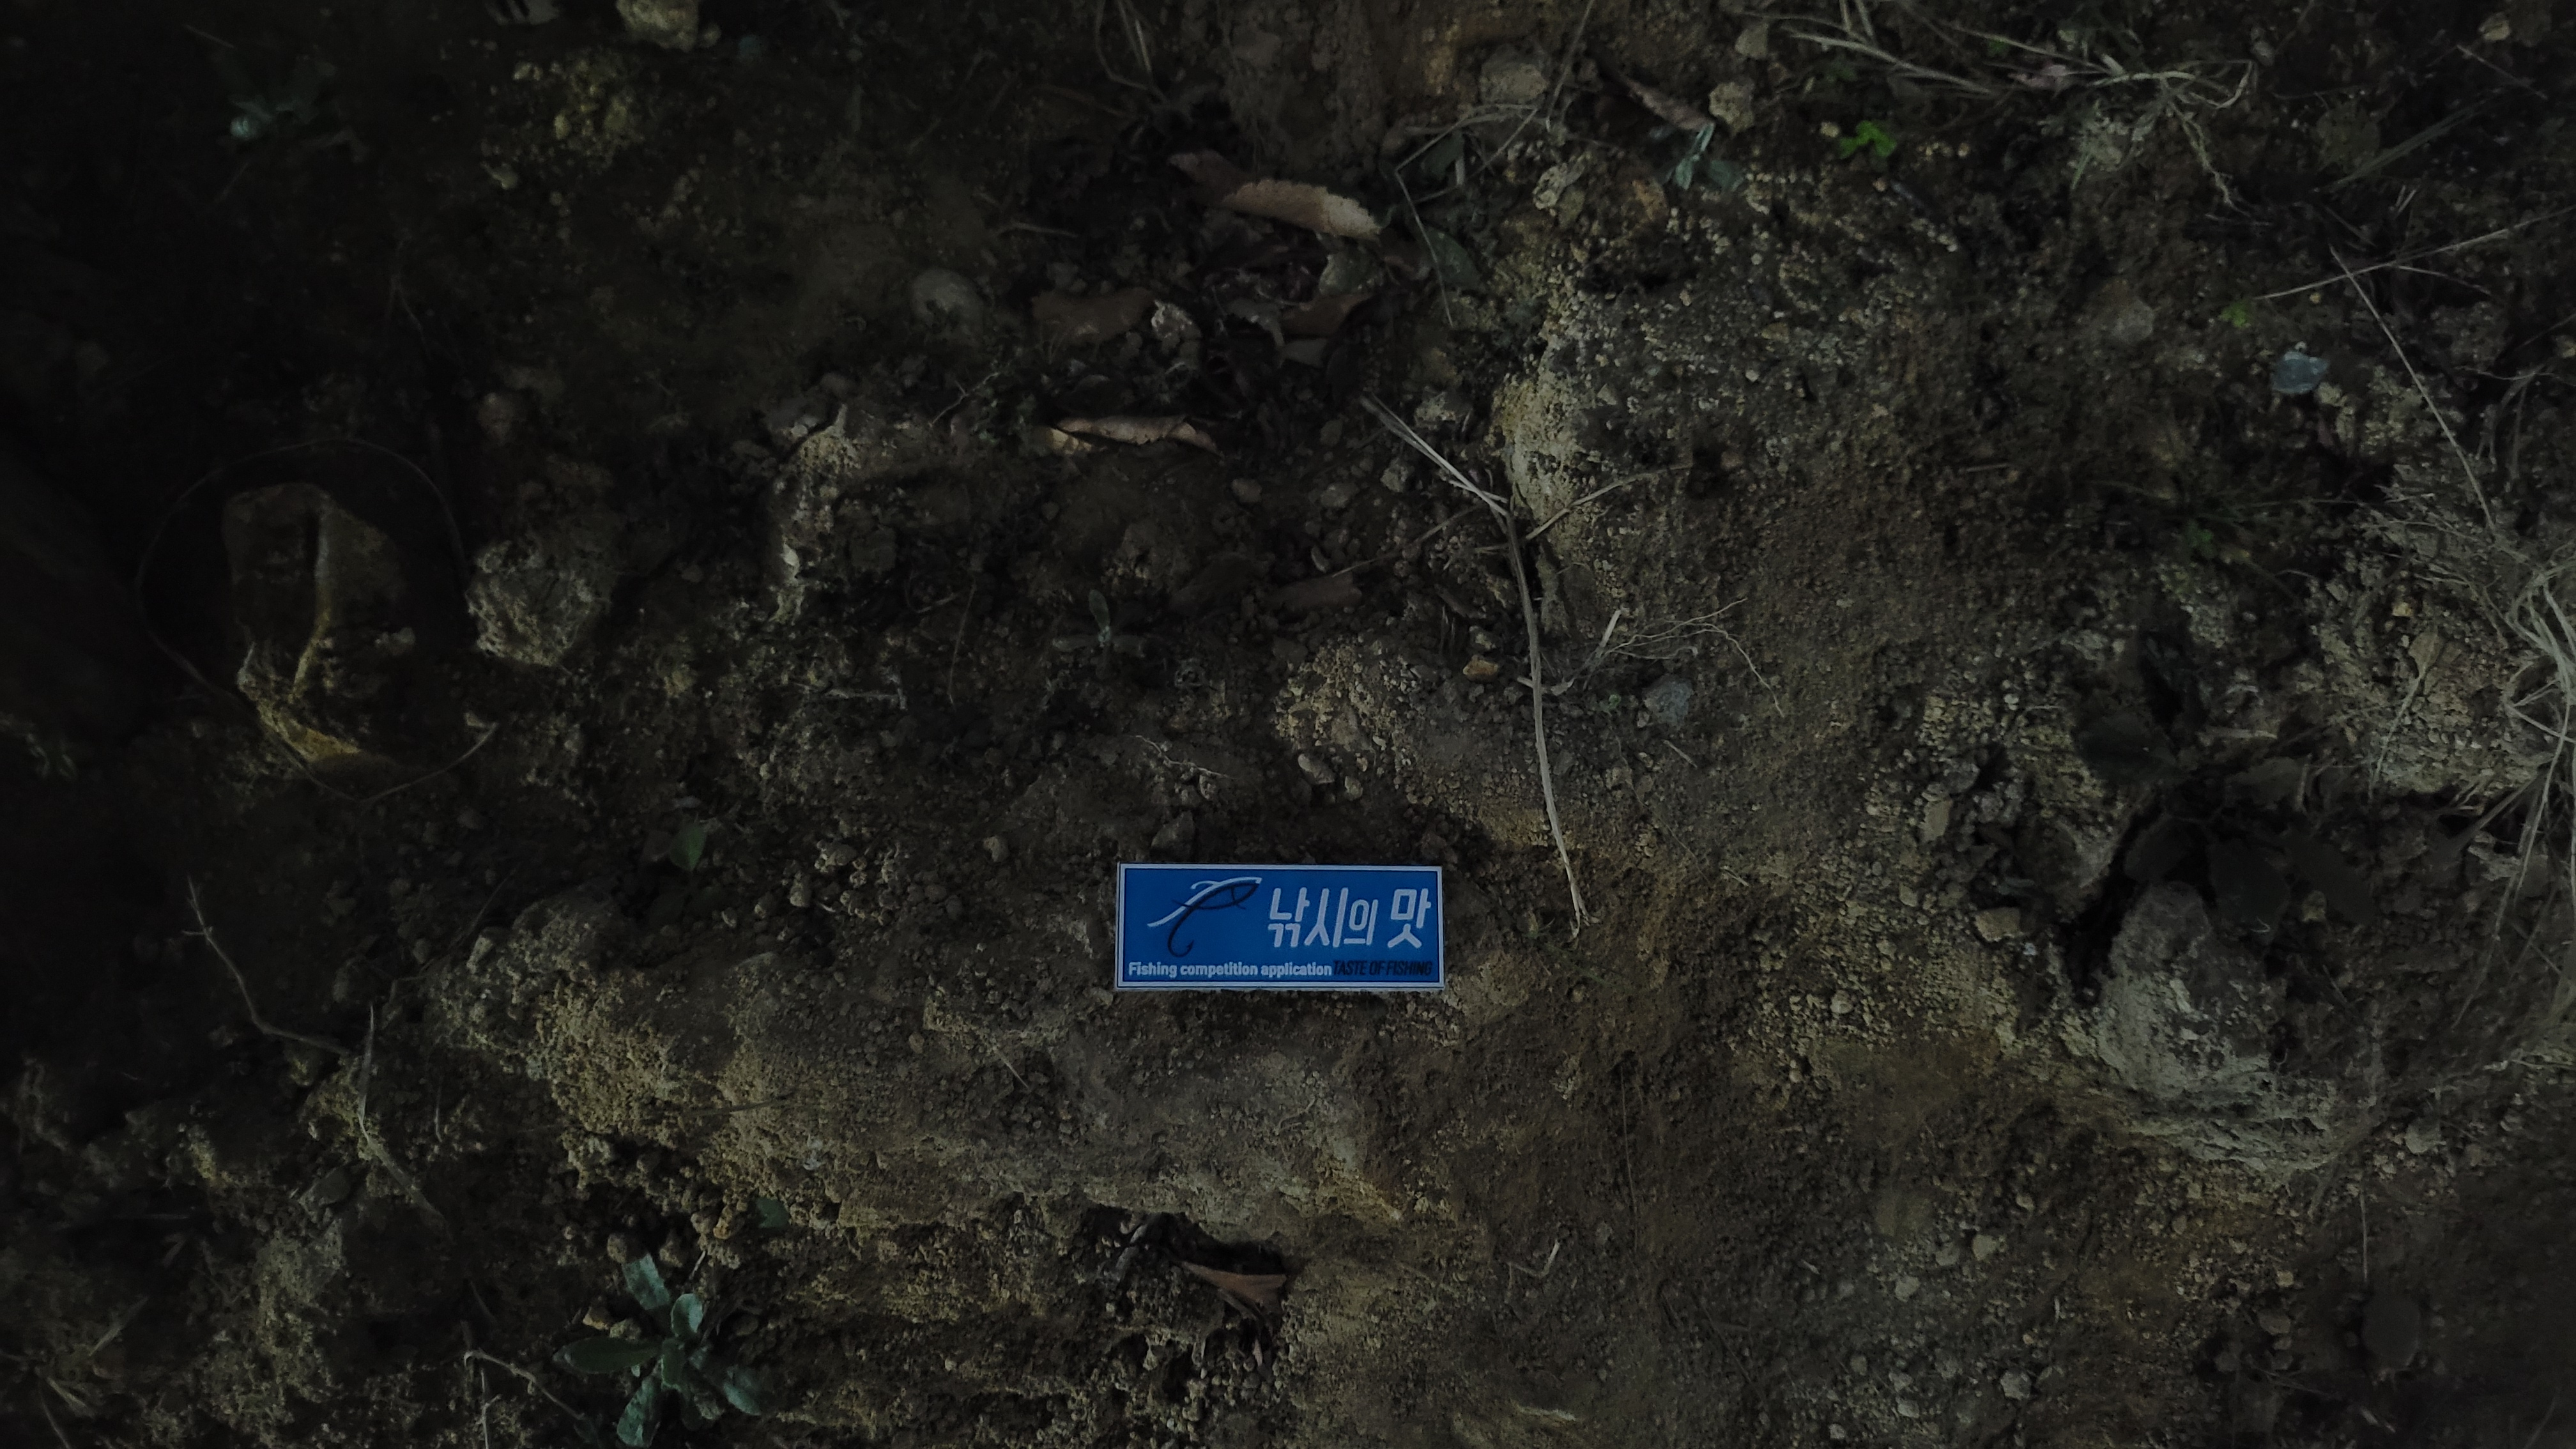tag: (1118, 865, 1449, 991)
